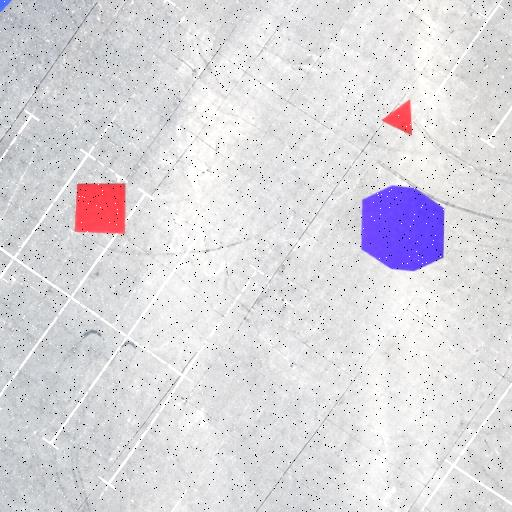RED_SQUARE: (74, 182, 126, 234)
